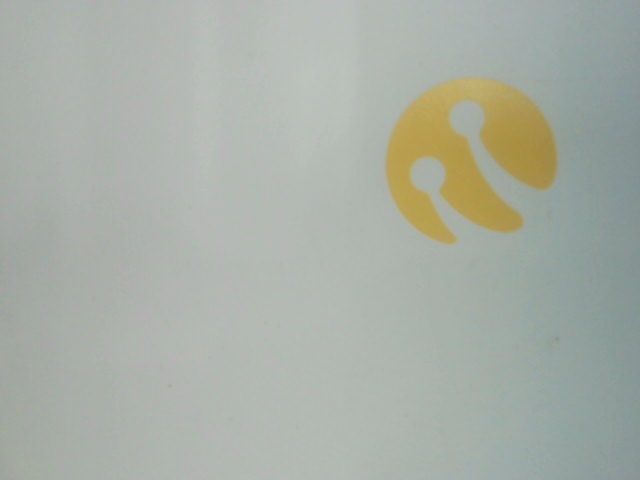AV_H3600Yellow: (383, 76, 561, 245)
